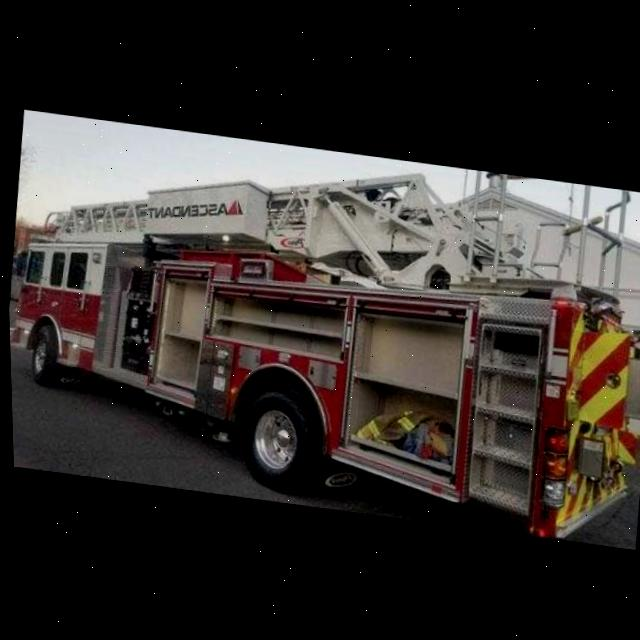emergency: (3, 110, 640, 546)
